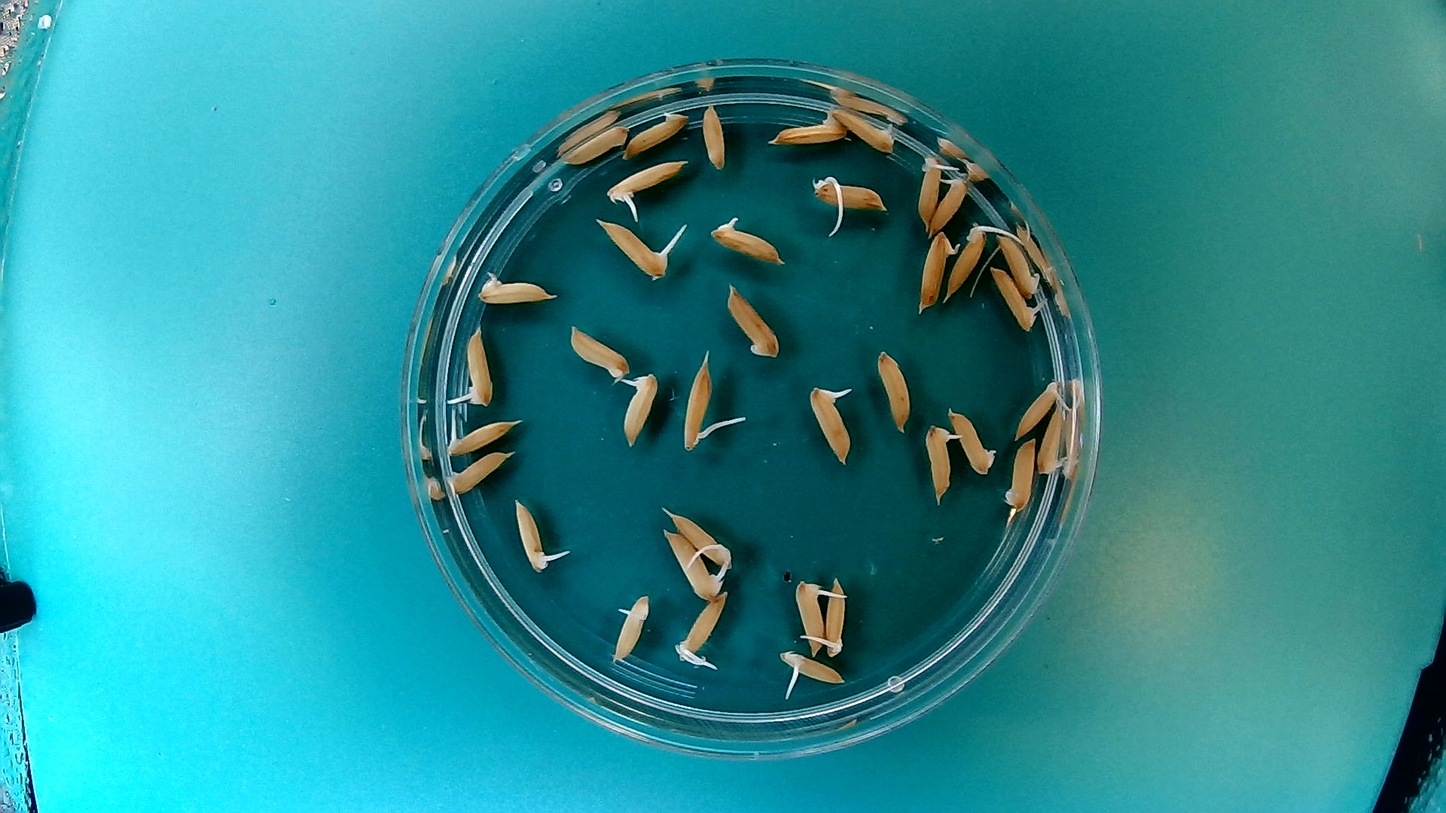no: (723, 280, 783, 361), (661, 506, 734, 568), (565, 323, 631, 382), (621, 105, 691, 160), (949, 403, 999, 478), (561, 121, 633, 168), (874, 347, 913, 433), (1001, 437, 1038, 513), (1036, 402, 1066, 482), (697, 101, 728, 171)
yes: (593, 217, 685, 281), (604, 155, 690, 214), (662, 528, 729, 599), (806, 379, 858, 470), (679, 350, 721, 455), (706, 214, 787, 267), (439, 449, 514, 506), (672, 591, 728, 667), (943, 219, 993, 299), (826, 104, 899, 156), (989, 264, 1044, 333), (803, 172, 889, 216), (618, 369, 662, 452), (993, 230, 1043, 300), (475, 266, 558, 307), (441, 413, 520, 456), (511, 494, 554, 573), (923, 419, 962, 504), (458, 324, 496, 410), (609, 589, 652, 665), (915, 230, 956, 309), (766, 109, 850, 147), (1013, 379, 1065, 440), (773, 648, 847, 690), (793, 574, 829, 653), (928, 174, 972, 235), (819, 571, 849, 659), (915, 151, 947, 227)
